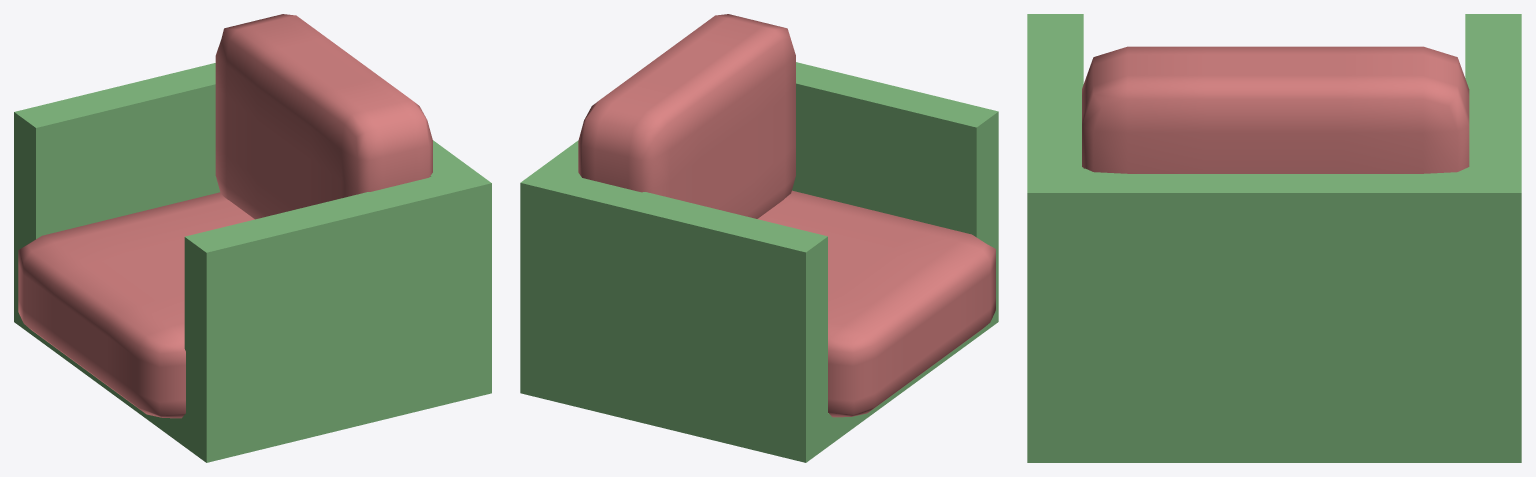
The model's file is PetitFauteuil.fbx.
3 renders of one model, left to right at view 1: azimuth 30°, elevation 25°; view 2: azimuth 150°, elevation 25°; view 3: azimuth 270°, elevation 25°, orthographic. The views are drawn at different scales.
Visible parts, largest first — view 1: Object003; view 2: Object003; view 3: Object003.
Part boxes in pixels (left/top/right/bottom): Object003: left=14, top=14, right=491, bottom=462; Object003: left=520, top=14, right=998, bottom=462; Object003: left=1027, top=14, right=1521, bottom=462.
Size of the model in its own units: 108 by 90.07 by 114.
